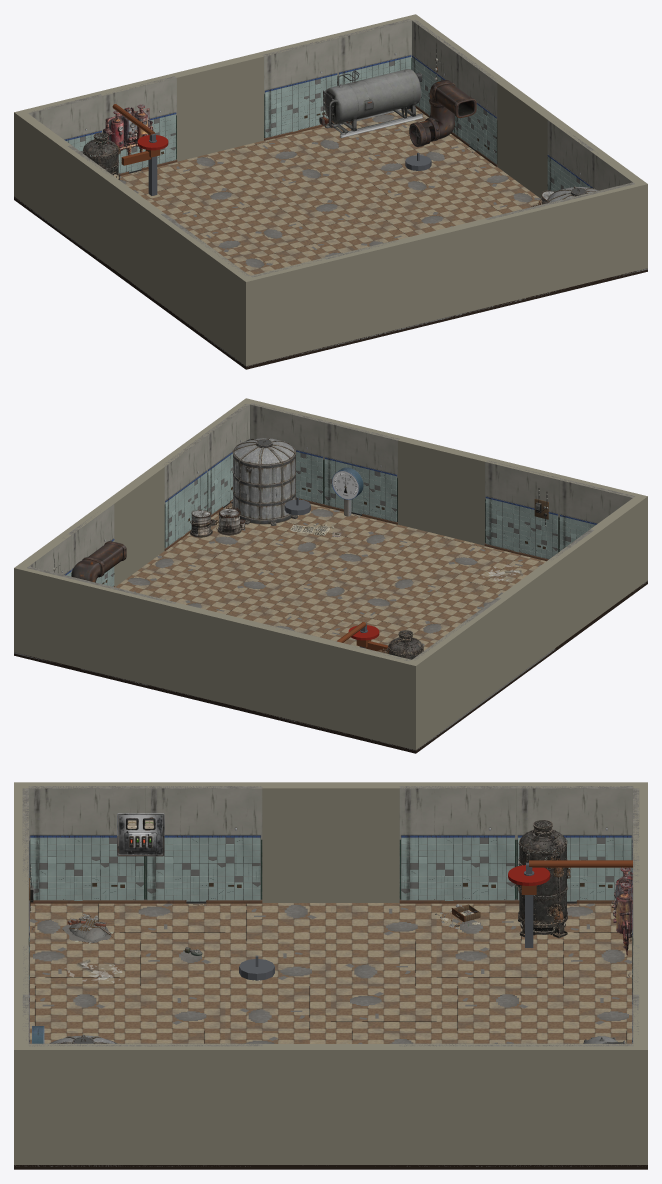
File: room_boiler_decorated_v2.glb
The picture shows the model from 3 angles, top to bottom: view 1: azimuth 30°, elevation 25°; view 2: azimuth 150°, elevation 25°; view 3: azimuth 270°, elevation 25°; orthographic projection. The views are drawn at different scales.
Parts seen in each view (by area): view 1: Wall_S_A, Wall_S_B, Wall_W_B, Wall_W_A, Plug_S, Plug_N, NoCol_Wallpaper_N2, BoilerModule, Plug_W, Plug_E, NoCol_Wallpaper_N3, NoCol_Wallpaper_N1 (+37 smaller); view 2: Wall_N_A, Wall_N_B, Wall_W_A, Wall_W_B, Plug_N, Plug_S, NoCol_Wallpaper_S1, NoCol_Wallpaper_S2, StorageTank, NoCol_Wallpaper_S3, Plug_W, NoCol_Wallpaper_E1 (+36 smaller); view 3: Wall_E_A, Wall_E_B, Plug_E, Plug_W, NoCol_Wallpaper_W2, NoCol_Wallpaper_W1, NoCol_Wallpaper_W0, NoCol_Wallpaper_W3, NoCol_FloorTile_13, NoCol_FloorTile_14, NoCol_FloorTile_11, NoCol_FloorTile_21 (+40 smaller).
Boxes of the visible parts, x1,y1,x2,y2 form: Wall_S_A: (240, 240, 403, 365); Wall_S_B: (486, 180, 647, 306); Wall_W_B: (19, 114, 113, 262); Wall_W_A: (155, 214, 249, 361); Plug_S: (403, 233, 490, 327); Plug_N: (177, 67, 263, 161); NoCol_Wallpaper_N2: (262, 37, 337, 140); BoilerModule: (319, 69, 422, 138); Plug_W: (105, 189, 155, 299); Plug_E: (497, 93, 547, 198); NoCol_Wallpaper_N3: (336, 19, 411, 85); NoCol_Wallpaper_N1: (102, 76, 176, 173); Wall_N_A: (258, 624, 421, 749); Wall_N_B: (14, 564, 176, 690); Wall_W_A: (548, 498, 642, 646); Wall_W_B: (412, 598, 506, 745); Plug_N: (171, 617, 258, 711); Plug_S: (398, 451, 484, 545); NoCol_Wallpaper_S1: (485, 460, 560, 559); NoCol_Wallpaper_S2: (324, 421, 399, 521); StorageTank: (231, 437, 297, 525); NoCol_Wallpaper_S3: (250, 403, 325, 503); Plug_W: (506, 573, 556, 683); NoCol_Wallpaper_E1: (162, 435, 207, 548); Wall_E_A: (28, 1044, 262, 1164); Wall_E_B: (399, 1044, 633, 1164); Plug_E: (262, 1064, 399, 1164); Plug_W: (262, 802, 399, 902); NoCol_Wallpaper_W2: (399, 786, 516, 900); NoCol_Wallpaper_W1: (145, 786, 262, 903); NoCol_Wallpaper_W0: (28, 786, 145, 900); NoCol_Wallpaper_W3: (516, 786, 633, 903); NoCol_FloorTile_13: (331, 941, 436, 986); NoCol_FloorTile_14: (436, 941, 542, 986); NoCol_FloorTile_11: (119, 941, 225, 986); NoCol_FloorTile_21: (119, 986, 225, 1030).
Size of the model in its own units: 12 by 2.5 by 12.
30 materials, 18 textured.
